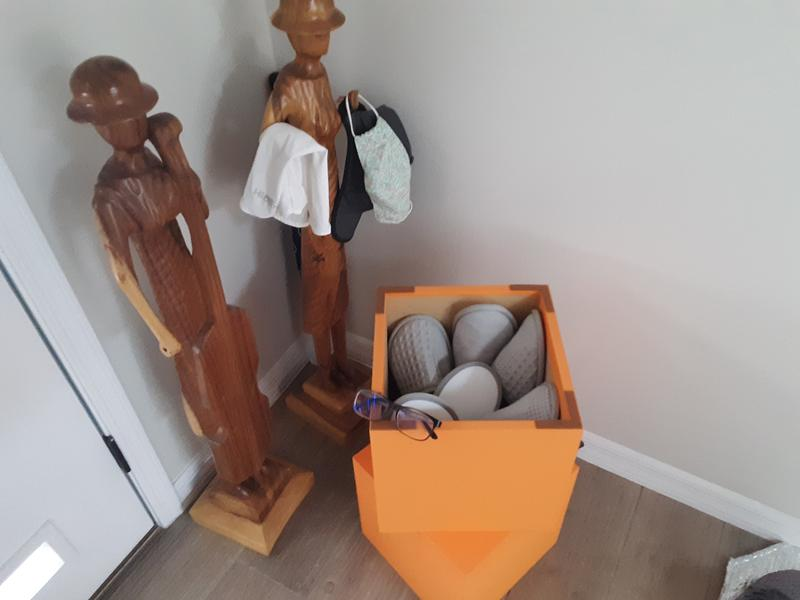glasses: (348, 384, 442, 443)
